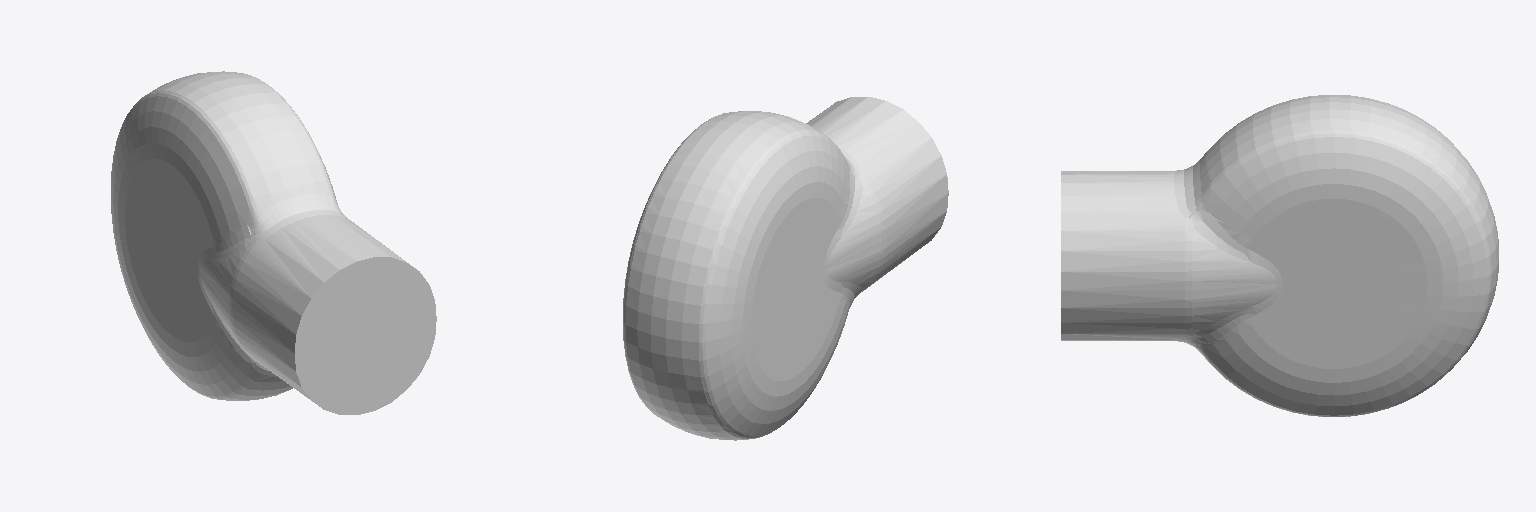
File: arm_6-wrist-2017.obj
The picture shows the model from 3 angles: view 1: azimuth 30°, elevation 25°; view 2: azimuth 150°, elevation 25°; view 3: azimuth 270°, elevation 25°; orthographic projection.
Visible parts, largest first — view 1: arm_6_wrist_2017; view 2: arm_6_wrist_2017; view 3: arm_6_wrist_2017.
Boxes of the visible parts, x1=… form: arm_6_wrist_2017: x1=111, y1=71, x2=436, y2=414; arm_6_wrist_2017: x1=623, y1=97, x2=948, y2=440; arm_6_wrist_2017: x1=1061, y1=95, x2=1498, y2=416.
Size of the model in its own units: 0.041 by 0.0828 by 0.1096.